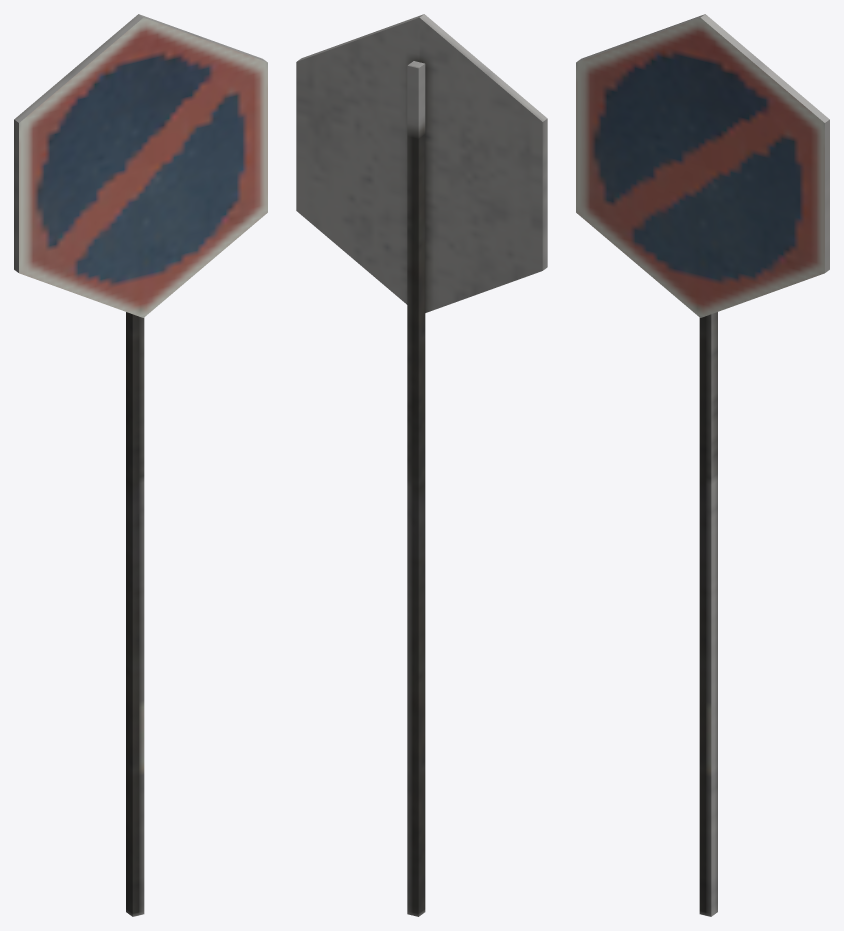
Rendered from Sign02.obj.
The picture shows the model from 3 angles, left to right: view 1: azimuth 30°, elevation 25°; view 2: azimuth 150°, elevation 25°; view 3: azimuth 330°, elevation 25°; orthographic projection.
Parts seen in each view (by area): view 1: Sign02; view 2: Sign02; view 3: Sign02.
Boxes of the visible parts, bbox=[...] form: Sign02: bbox=[14, 14, 267, 916]; Sign02: bbox=[296, 14, 547, 916]; Sign02: bbox=[576, 14, 829, 916].
Size of the model in its own units: 0.866 by 3 by 0.07.
